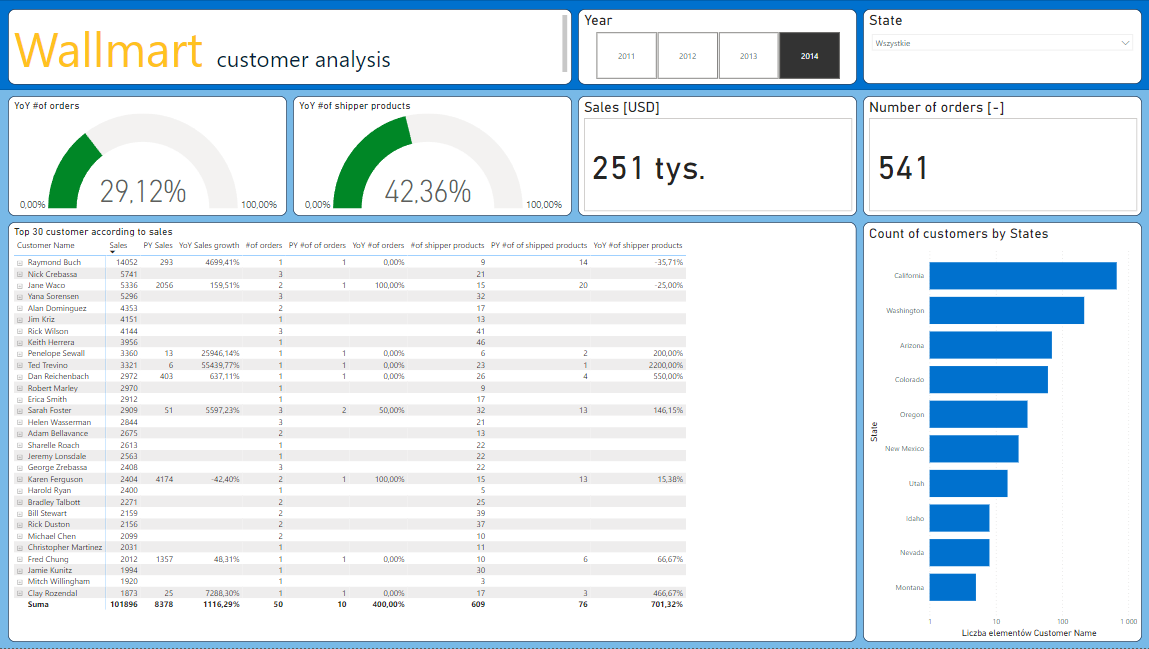

Layout of this report page (visuals, bound fields, positions):
{"tool":"powerbi","page":{"name":"Customer analysis","canvas":[1920,1080],"ordinal":2},"visuals":[{"type":"shape","box":[0,0,1920,150],"z":0},{"type":"slicer","title":"State","fields":{"Values":["Walmart.State"]},"box":[1440,15,465,125],"z":1000},{"type":"cardVisual","title":"Sales [USD]","fields":{"Data":["Metrics.Sales"]},"box":[965,160,465,200],"z":2000},{"type":"cardVisual","title":"Number of orders [-]","fields":{"Data":["Metrics.#of orders"]},"box":[1440,160,465,200],"z":3000},{"type":"barChart","title":"Count of customers by States","fields":{"Y":["Walmart.Customer Name"],"Category":["Walmart.State"]},"box":[1439.6,369.6,465.4,700.4],"z":4000},{"type":"pivotTable","title":"Top 30 customer according to sales","fields":{"Values":["Metrics.Sales","Metrics.PY Sales","Metrics.YoY Sales growth","Metrics.#of orders","Metrics.PY #of of orders","Metrics.YoY #of orders","Metrics.#of shipper products","Metrics.PY #of of shipped products","Metrics.YoY #of shipper products"],"Rows":["Walmart.Customer Name","Walmart.Category"]},"box":[15,369.6,1414.2,700.4],"z":5000},{"type":"slicer","title":"Year","fields":{"Values":["CalendarTable.Year"]},"box":[964.5,15,465,125.6],"z":6000},{"type":"gauge","fields":{"Y":["Metrics.YoY #of orders"]},"box":[15,160,465,200],"z":7000},{"type":"gauge","fields":{"Y":["Metrics.YoY #of shipper products"]},"box":[490,160,465,200],"z":8000},{"type":"textbox","box":[15,15,939.8,125.7],"z":9000}]}

Visuals, with their boxes in screenshot pixels (x1, y1, x2, y2), scaled from the page's 1920x1080 canvas onto the 1149x649 screenshot:
shape: (x1=0, y1=0, x2=1148, y2=90)
"State" slicer: (x1=862, y1=9, x2=1140, y2=84)
"Sales [USD]" cardVisual: (x1=577, y1=96, x2=856, y2=216)
"Number of orders [-]" cardVisual: (x1=862, y1=96, x2=1140, y2=216)
"Count of customers by States" barChart: (x1=862, y1=222, x2=1140, y2=643)
"Top 30 customer according to sales" pivotTable: (x1=9, y1=222, x2=855, y2=643)
"Year" slicer: (x1=577, y1=9, x2=855, y2=84)
gauge - Metrics.YoY #of orders: (x1=9, y1=96, x2=287, y2=216)
gauge - Metrics.YoY #of shipper products: (x1=293, y1=96, x2=572, y2=216)
textbox: (x1=9, y1=9, x2=571, y2=85)
